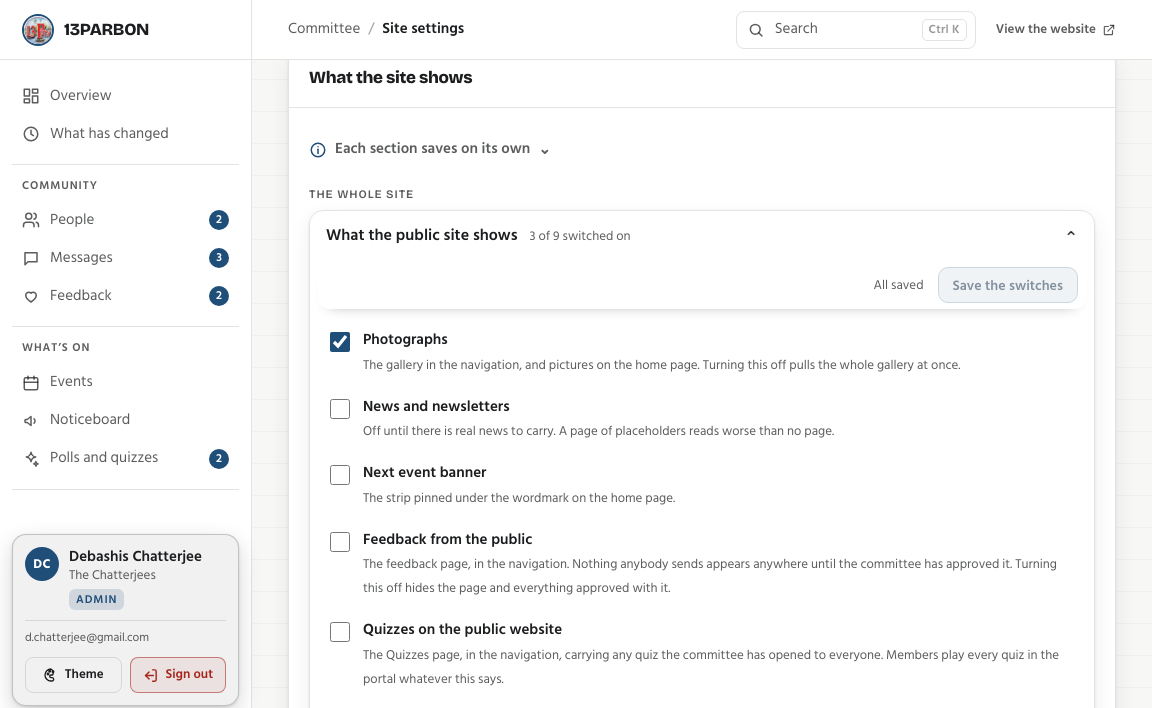
Scenario: the switches › will not save until something has changed
(page scrolled)
Check: the button "Save the switches" is disabled, box [938, 267, 1078, 303]
What coordinates should you click on to do the following:
click the checkbox labelled "News and newsletters"
I would click on:
 (340, 409)
Its box is [330, 399, 350, 419].
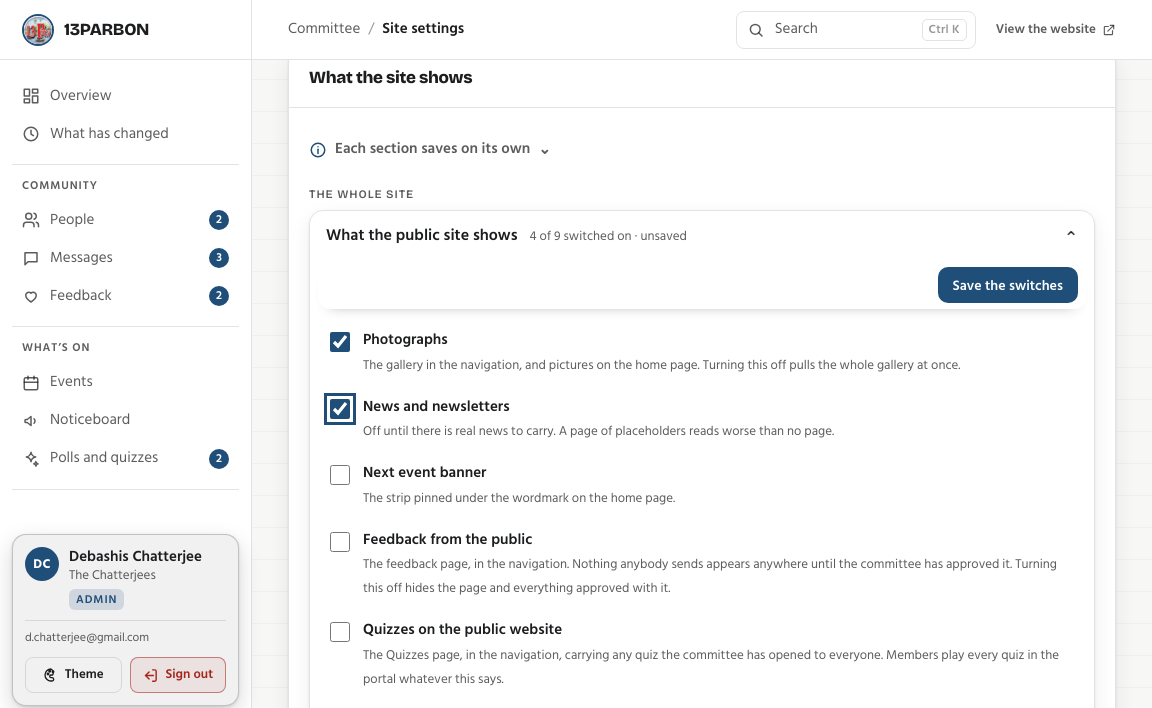
Check: the button "Save the switches" is enabled, box [938, 267, 1078, 303]
